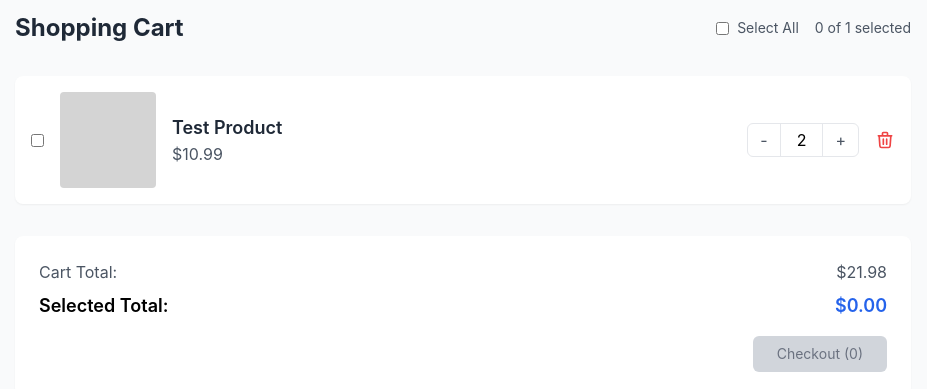
Test: CartPage Tests › removes an item from the cart
The width and height of the screenshot is (927, 389).
expect the heading "Test Product" is shown: met, box [172,117,282,138]
Click the 3rd button.
click(885, 140)  # box [875,130,895,150]
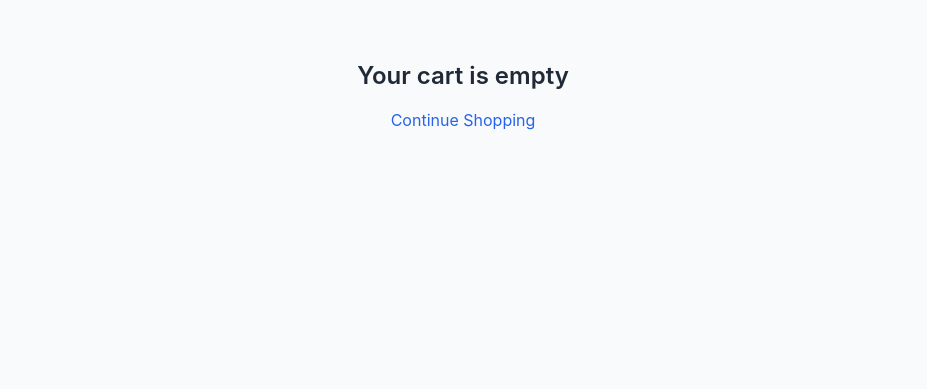
expect the heading "Test Product" is gone: met
expect the heading "Your cart is empty" is shown: met, box [357,61,569,90]
